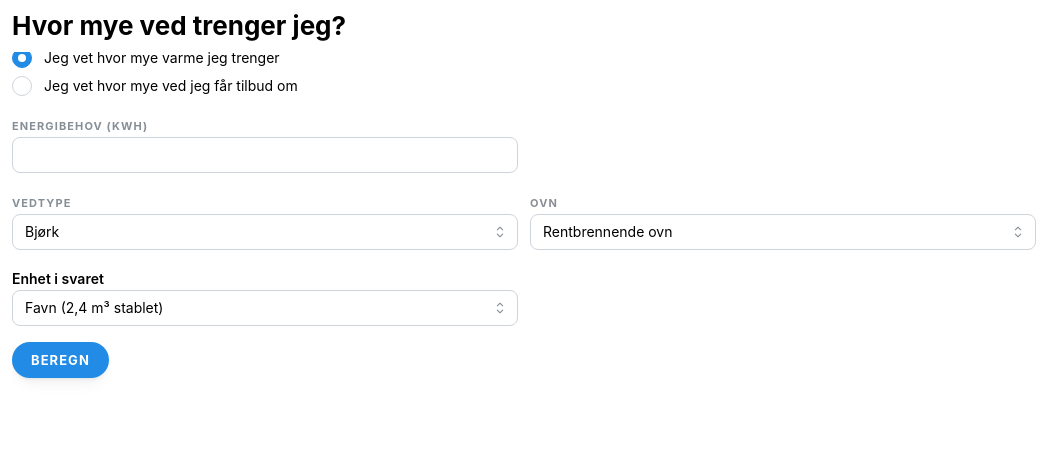
NeedCalculator › turns a kWh need into a wood amount in more than one unit
Type "5000" into the number field labelled "Energibehov (kWh)" at (265, 155), box [12,137,518,173]
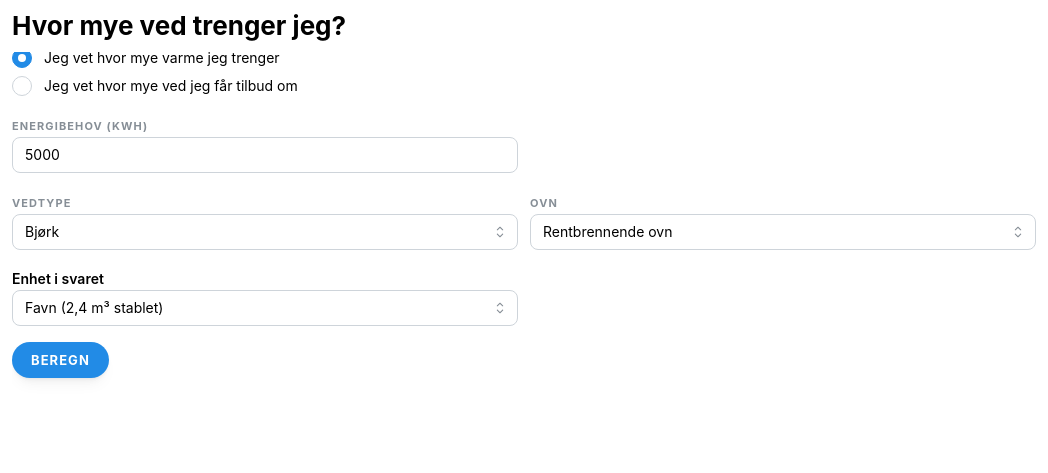
Click the button "Beregn" at (60, 360), box [12,342,109,378]
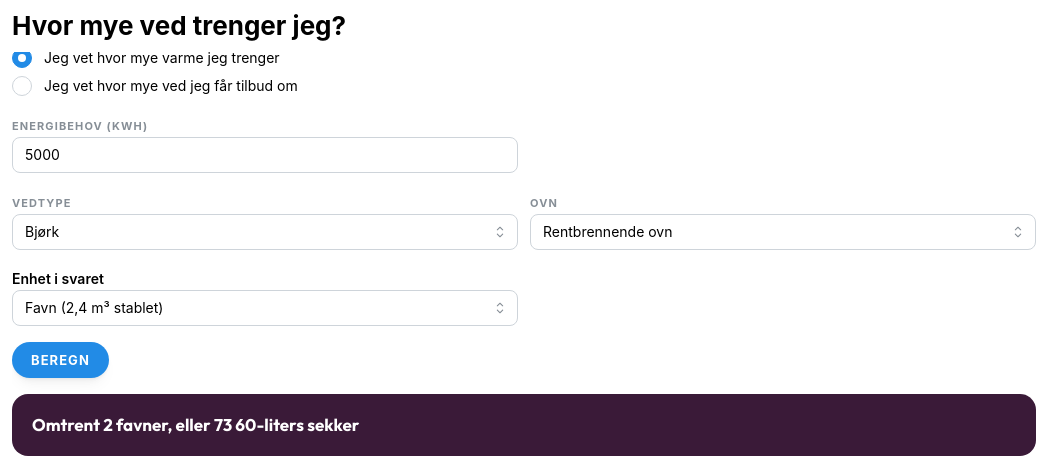
Now the text with test id "need-result" shows "favn", box [32,414,359,435]
Now the text with test id "need-result" shows "sekk", box [32,414,359,435]
